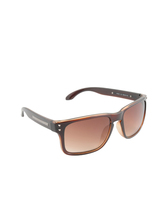glasses: (17, 85, 153, 158)
